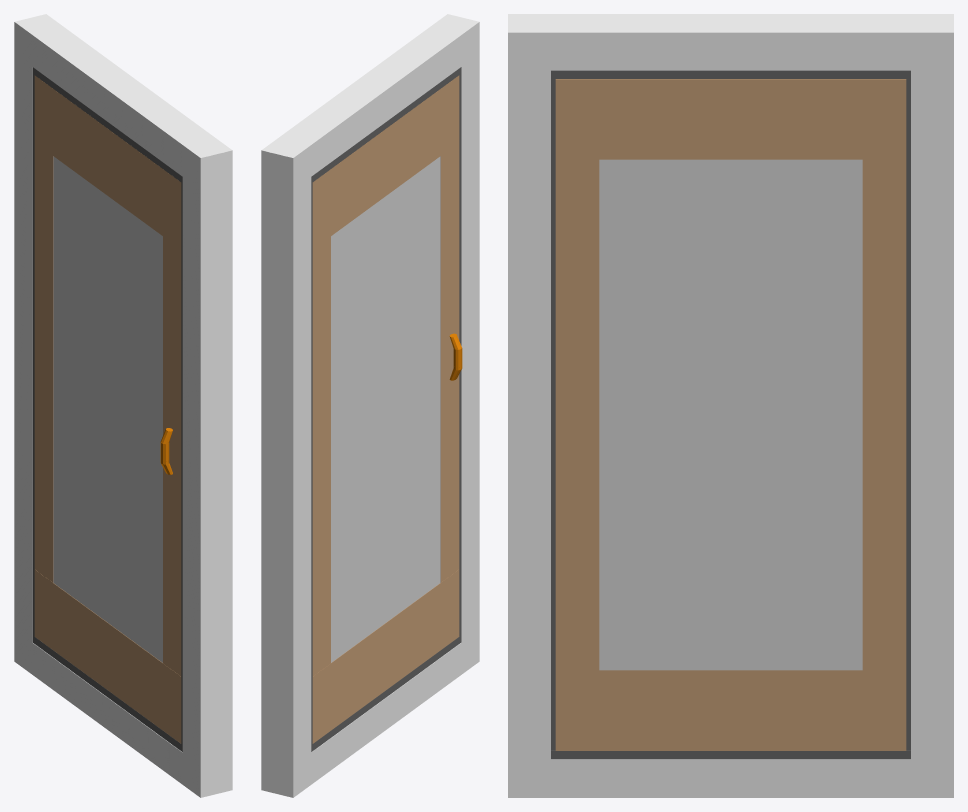
The model's file is door.fbx.
The picture shows the model from 3 angles, left to right: view 1: azimuth 30°, elevation 25°; view 2: azimuth 150°, elevation 25°; view 3: azimuth 270°, elevation 25°; orthographic projection. The views are drawn at different scales.
Visible parts, largest first — view 1: Cube.001, Cube, дверь, дверная рама; view 2: Cube.001, Cube, дверь, дверная рама; view 3: Cube, дверь, Cube.001, дверная рама.
Part boxes in pixels (<box>): Cube.001: <box>14,14,232,797</box>; Cube: <box>53,156,162,662</box>; дверь: <box>34,75,181,743</box>; дверная рама: <box>32,67,182,751</box>; Cube.001: <box>261,14,479,797</box>; Cube: <box>331,156,440,662</box>; дверь: <box>312,75,462,743</box>; дверная рама: <box>311,67,461,751</box>; Cube: <box>599,159,862,670</box>; дверь: <box>555,79,906,750</box>; Cube.001: <box>508,14,953,797</box>; дверная рама: <box>551,70,910,759</box>.
Bounding box in the file's own units: 40.45 × 580 × 306.
